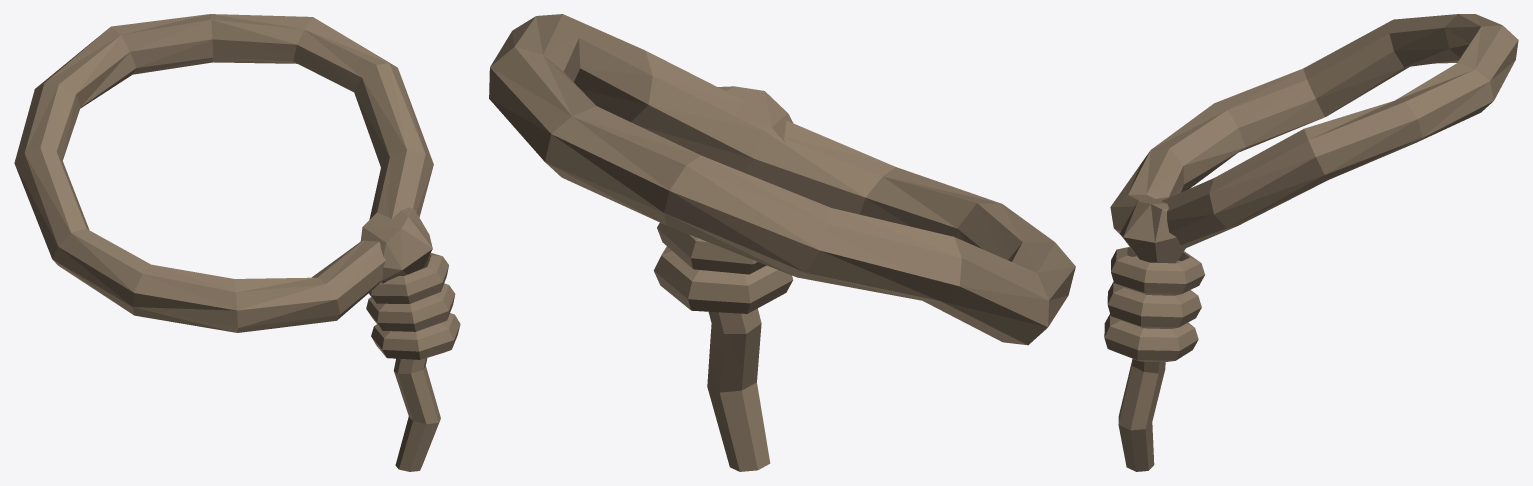
Rendered from amuletNoose.fbx.
3 renders of one model, left to right at view 1: azimuth 30°, elevation 25°; view 2: azimuth 150°, elevation 25°; view 3: azimuth 270°, elevation 25°, orthographic. The views are drawn at different scales.
Parts seen in each view (by area): view 1: amuletNoose; view 2: amuletNoose; view 3: amuletNoose.
Boxes of the visible parts, x1=… form: amuletNoose: x1=14, y1=14, x2=460, y2=471; amuletNoose: x1=489, y1=14, x2=1075, y2=471; amuletNoose: x1=1104, y1=14, x2=1518, y2=471.
Bounding box in the file's own units: 1.48 × 1.45 × 1.43.
